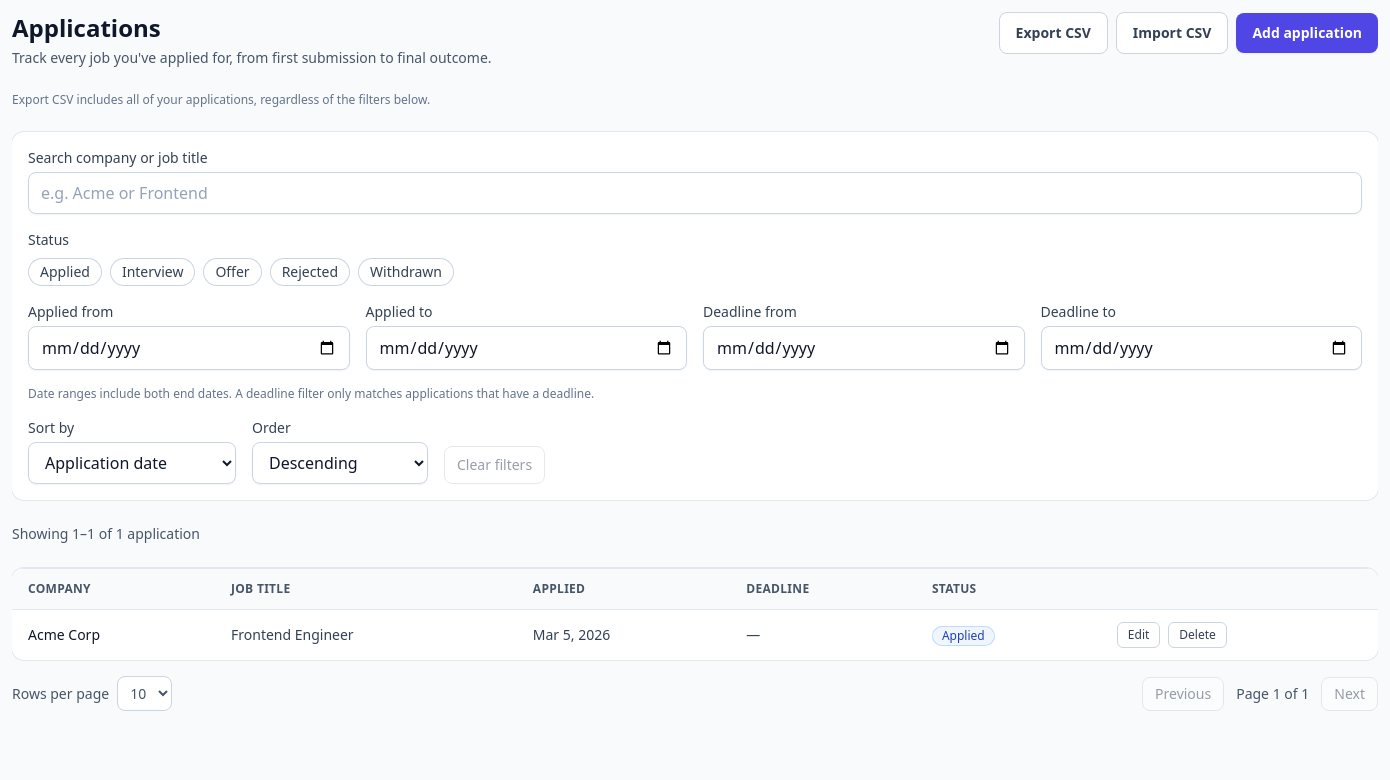
Test case: loading, empty and error states › distinguishes 'no results for these filters' and can clear them
Expected: the table is shown, [12,568,1378,660]
Type "zzz" into the search field labelled "Search company or job title" at [695, 193], box [28,172,1362,214]
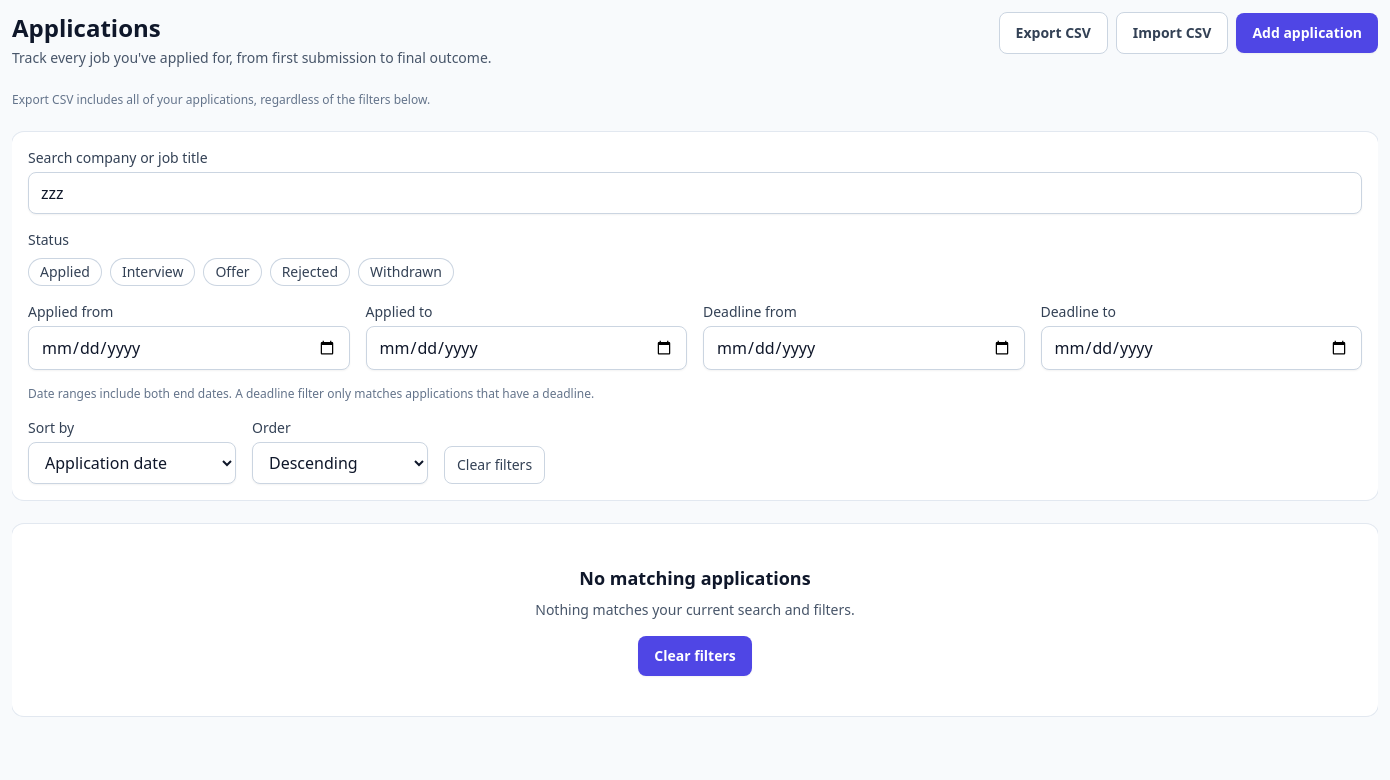
Click the button "Clear filters" below "No matching applications" at [695, 656], box [638,636,752,676]
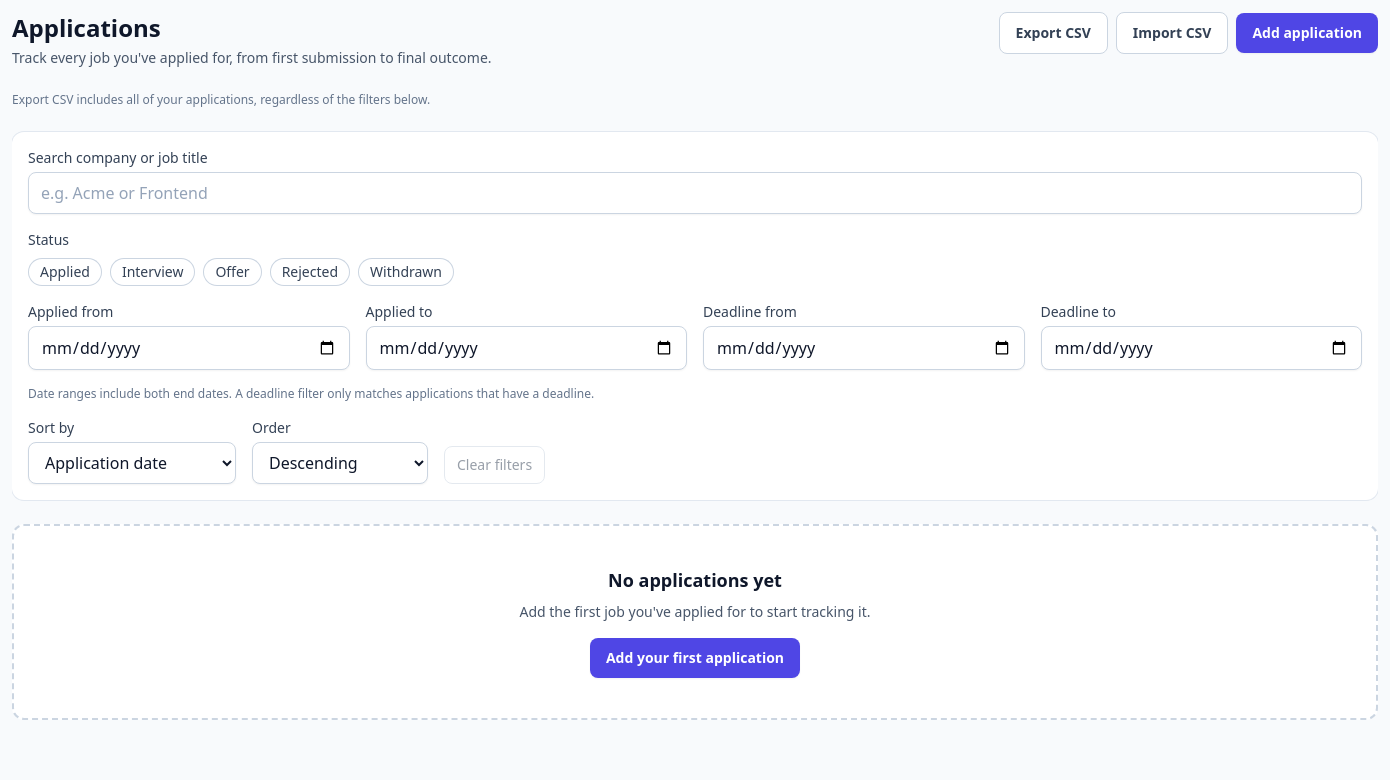
Now the search field labelled "Search company or job title" is empty, box [28,172,1362,214]
